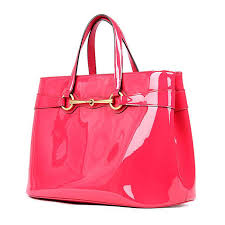cartera: (21, 6, 202, 209)
cuero: (48, 121, 165, 181)
